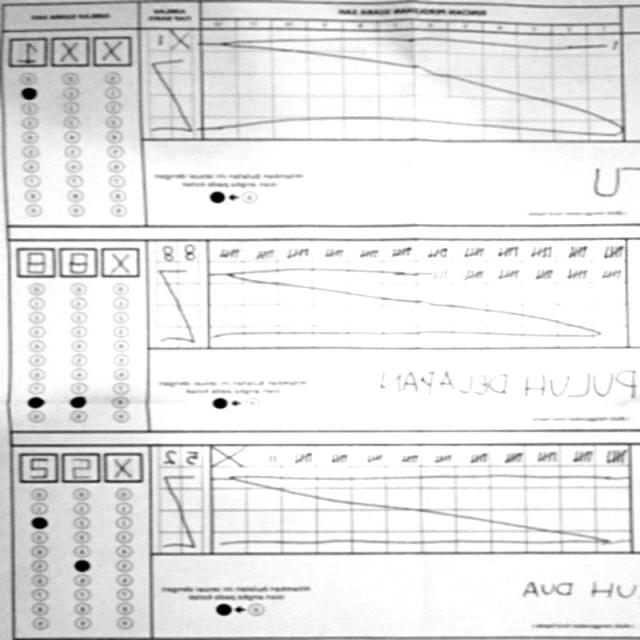Suara: (14, 240, 145, 278), (8, 32, 138, 68), (18, 449, 148, 485)
